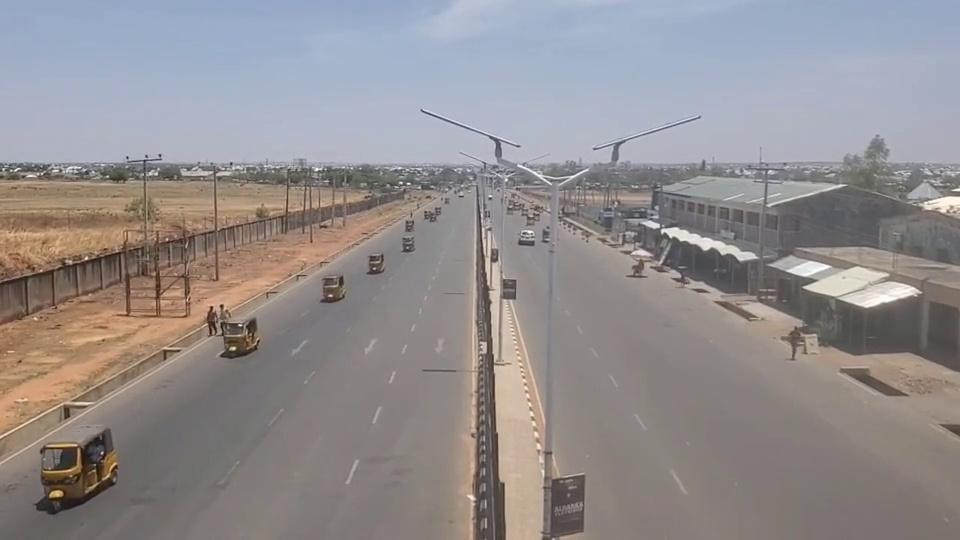keke: (38, 423, 118, 512), (221, 315, 260, 356), (321, 274, 345, 301)
